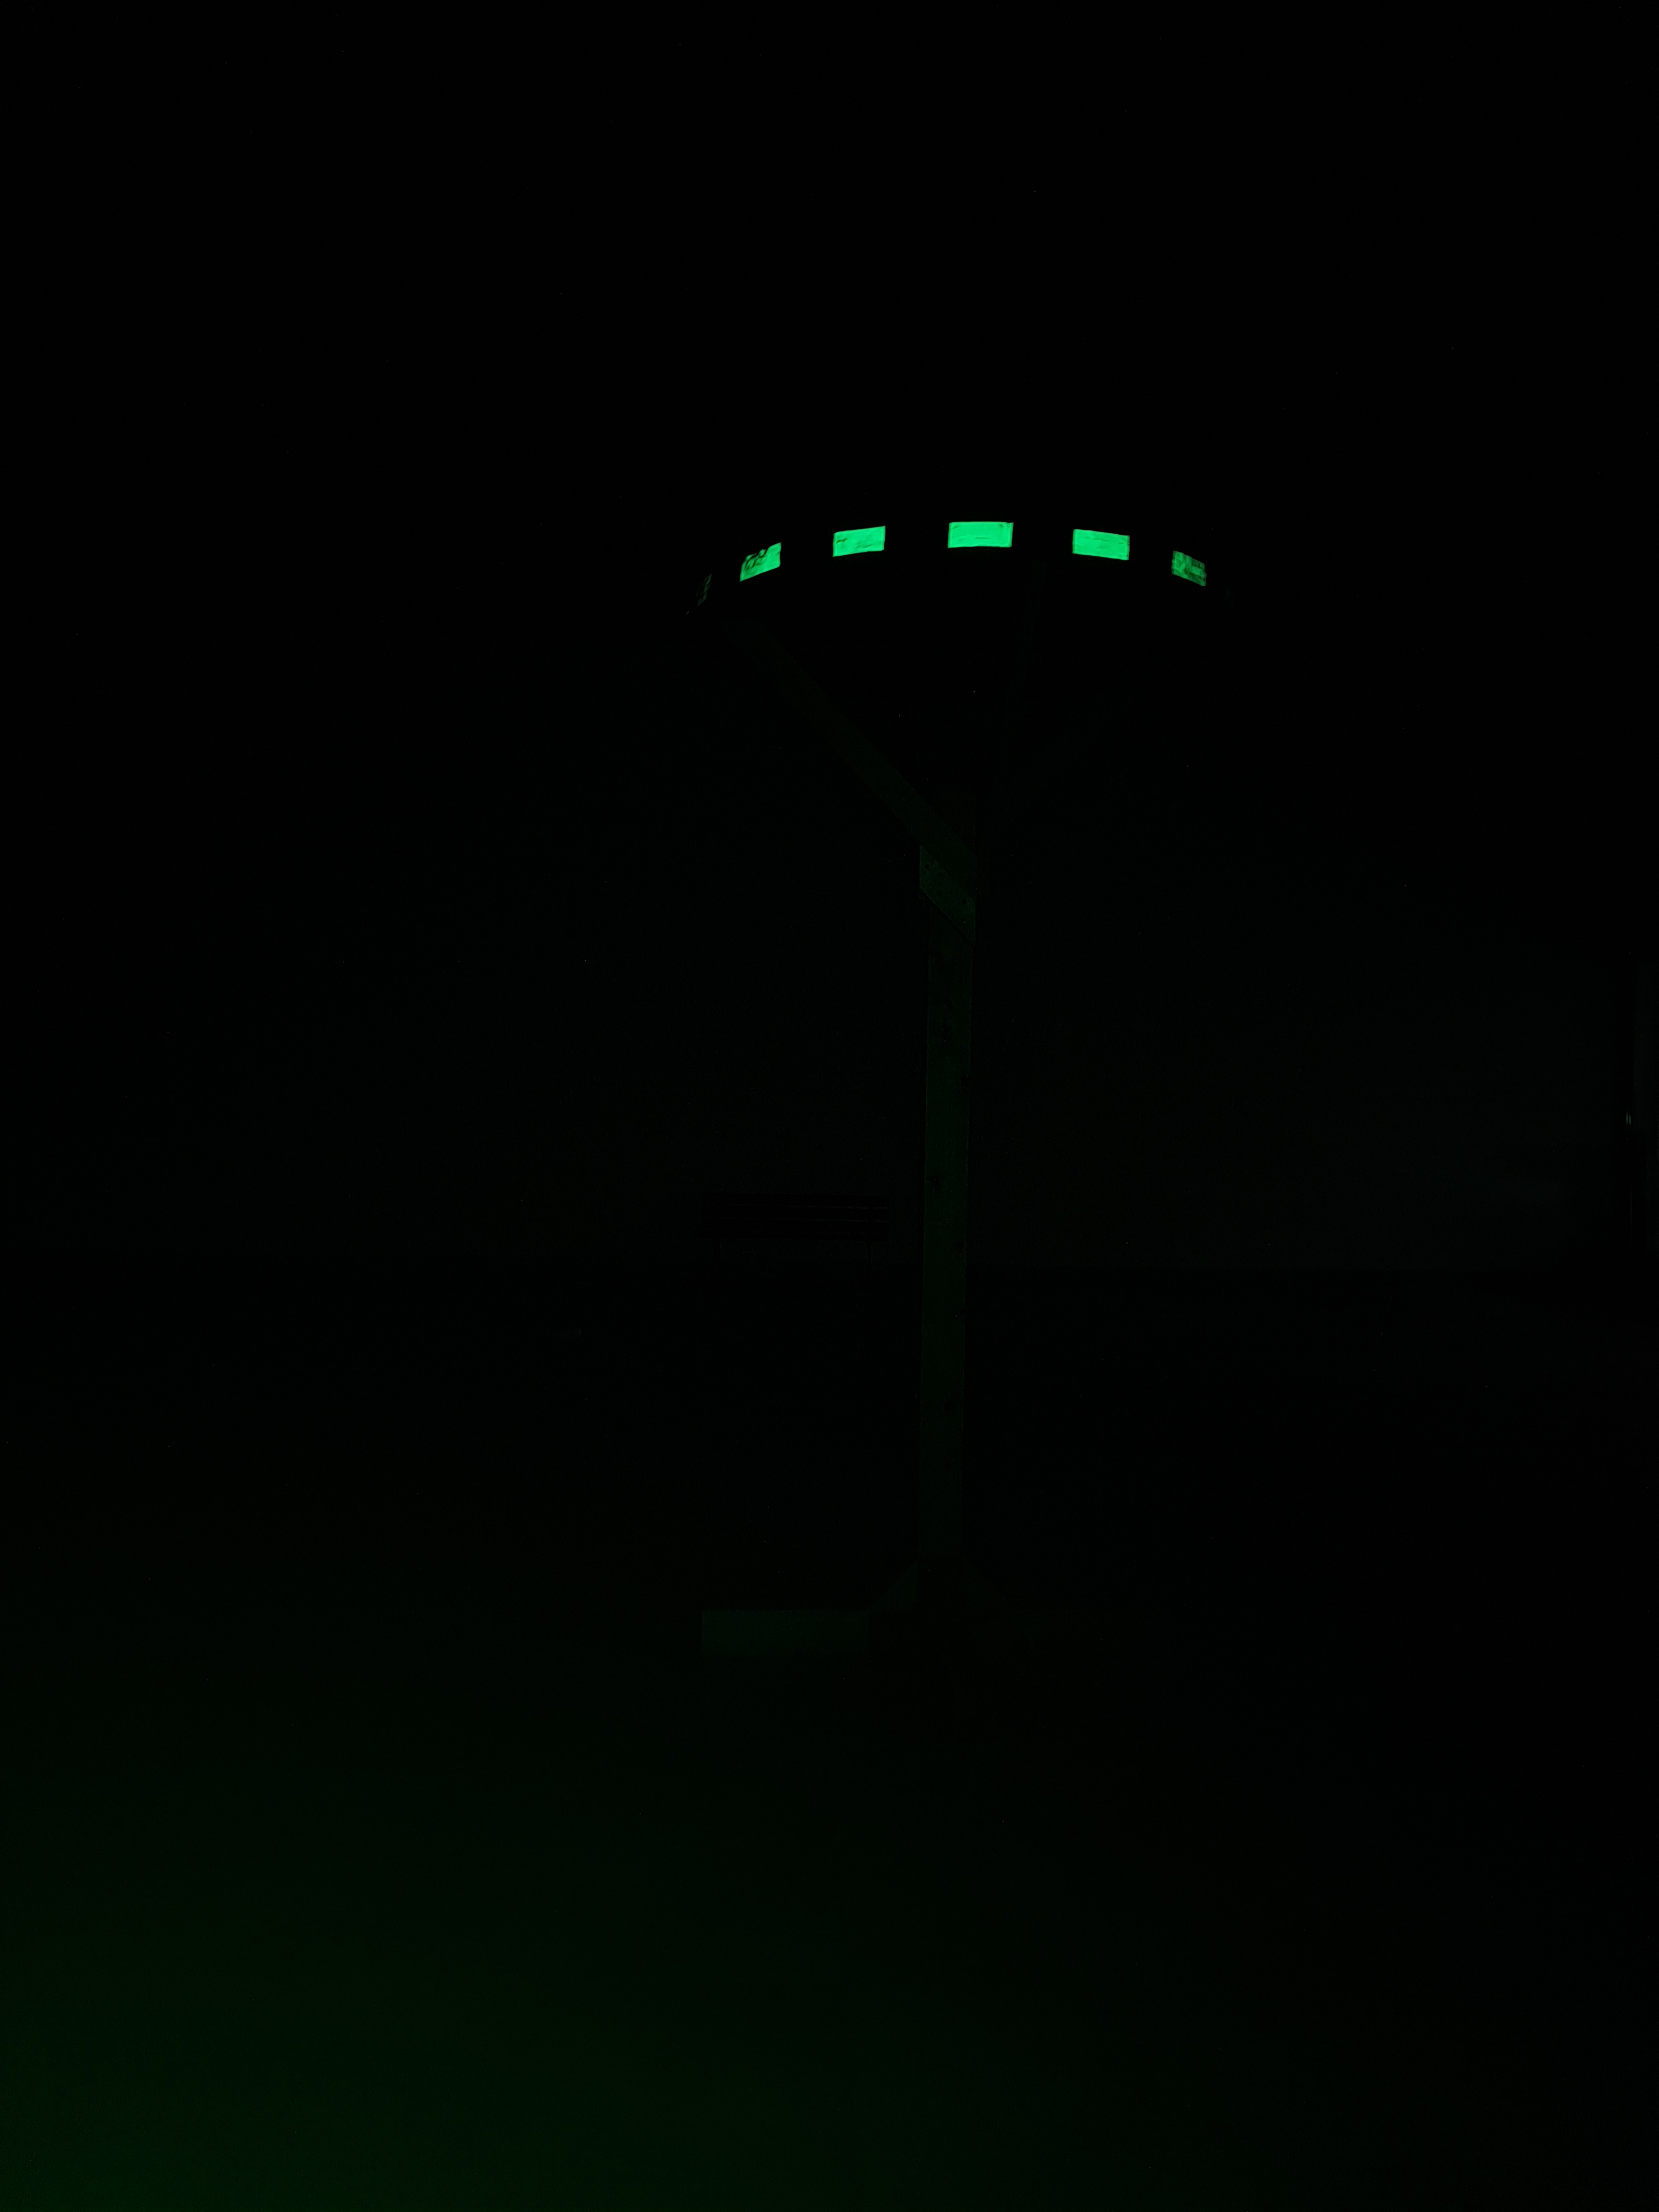hoop: (737, 516, 1208, 589)
